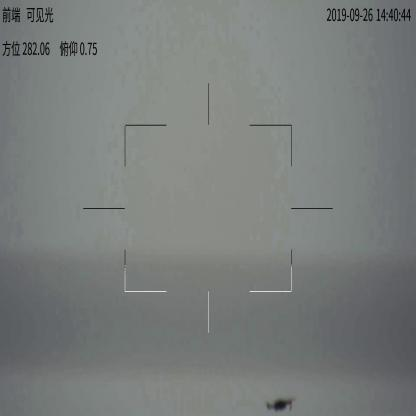uav: (262, 394, 297, 414)
